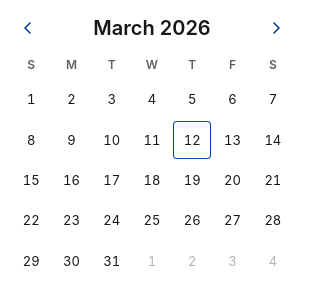
Calendar › Enter / click chooses; the month buttons turn the page
The image size is (332, 283).
Click the button "20" at x=233, y=180, box [213,161,252,200]
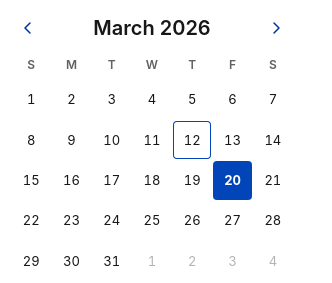
Click the button named "Next month" at x=276, y=28, box [260,12,292,44]
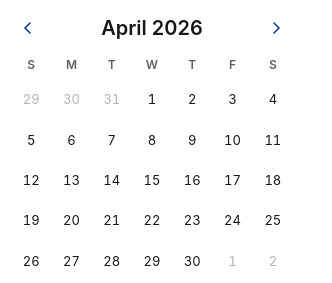
Now the text "April 2026" is shown, box [101,15,203,41]
Click the button named "Previous month" at x=28, y=28, box [12,12,44,44]
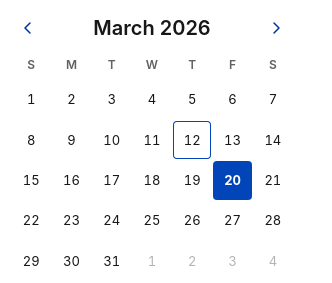
Click the button named "Previous month" at x=28, y=28, box [12,12,44,44]
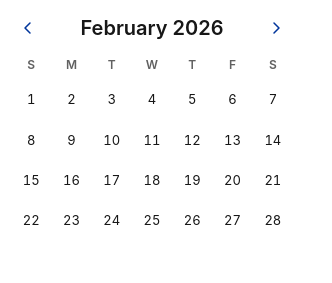
Now the text "February 2026" is shown, box [80,15,224,41]
